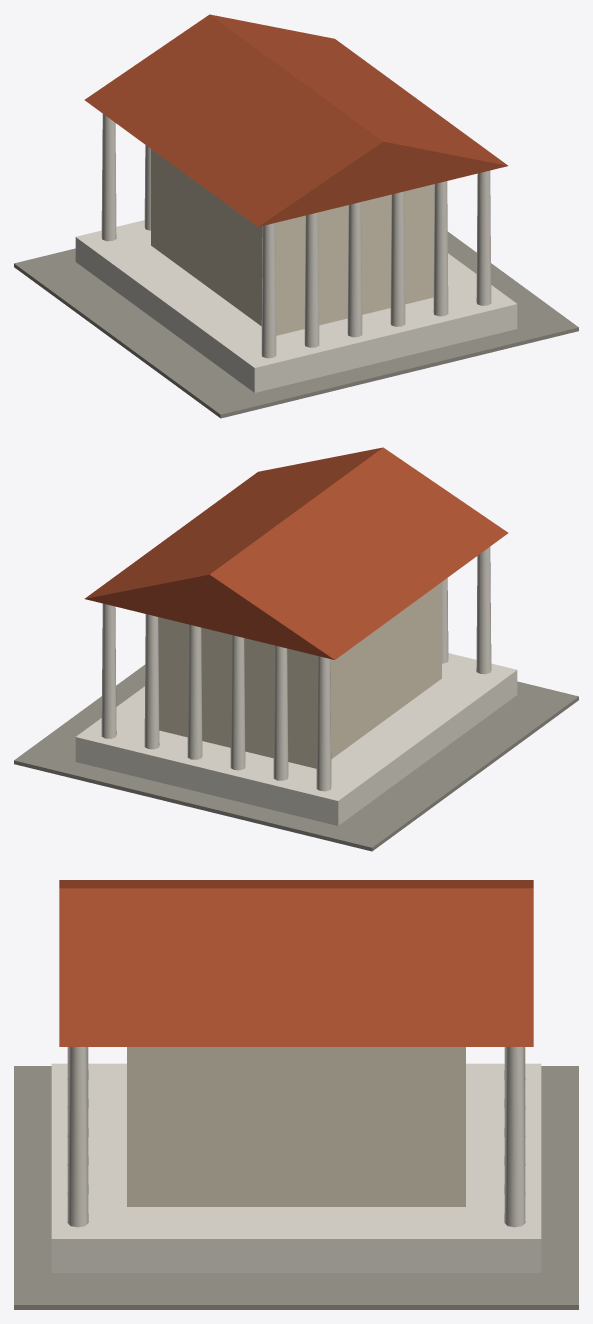
Rendered from bld_special_temple_a02_lod1.glb.
3 views of the same model, one above another, from view 1: azimuth 30°, elevation 25°; view 2: azimuth 150°, elevation 25°; view 3: azimuth 270°, elevation 25° (orthographic). The views are drawn at different scales.
Parts seen in each view (by area): view 1: body; view 2: body; view 3: body.
Boxes of the visible parts, x1,y1,x2,y2 form: body: [14, 14, 578, 418]; body: [14, 447, 578, 851]; body: [14, 880, 578, 1309].
Bounding box in the file's own units: 15 × 8.85 × 15.
